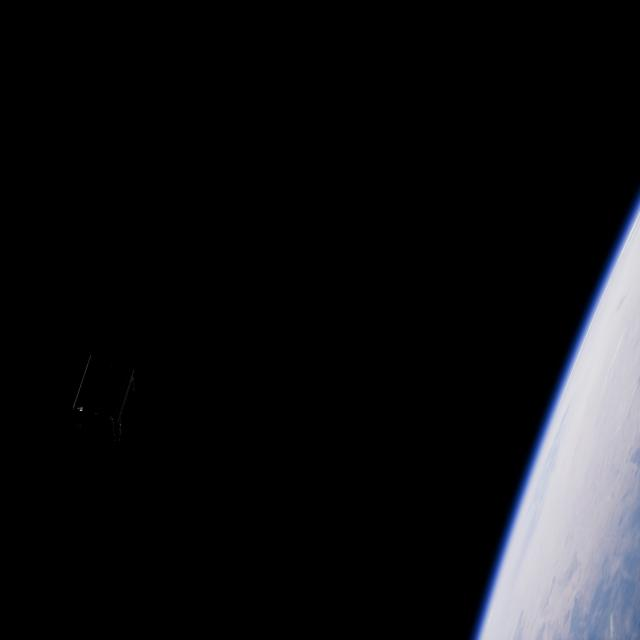medium_debris: (61, 348, 144, 436)
